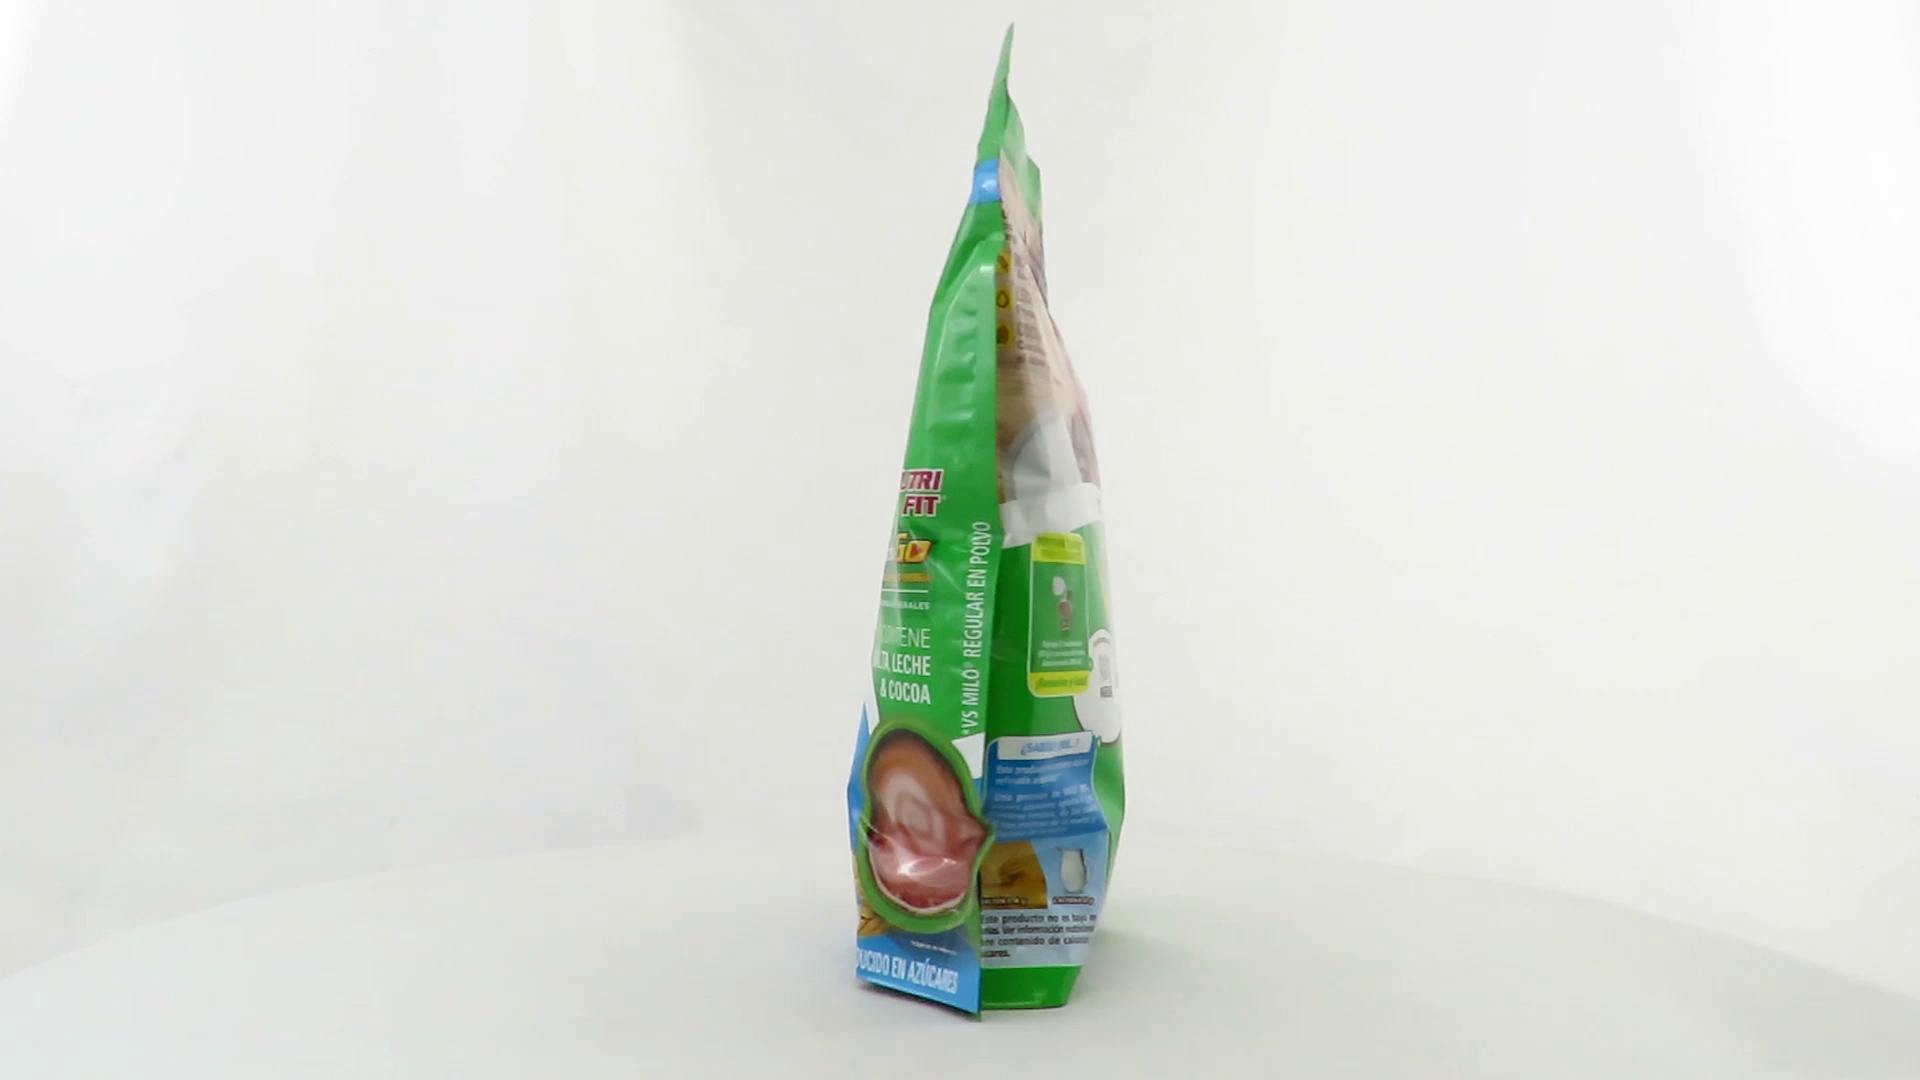COL0170205DYP50000: (843, 17, 1131, 1031)
